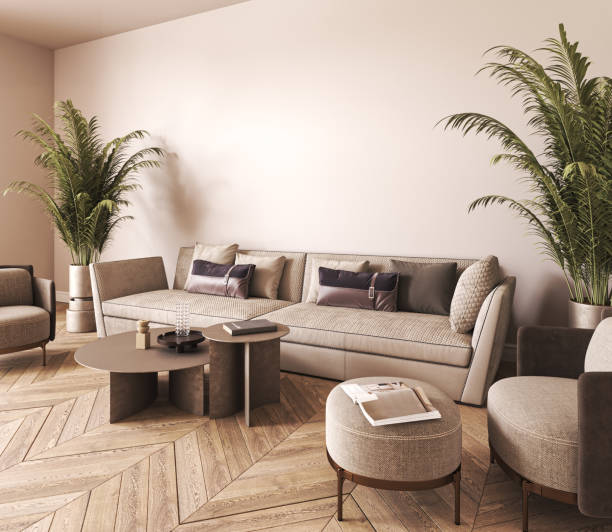chair: (486, 313, 612, 532), (0, 260, 56, 369)
large plant: (459, 25, 612, 328), (7, 91, 154, 332)
sofa: (87, 238, 515, 408)
table: (73, 328, 209, 421), (203, 317, 291, 429)
